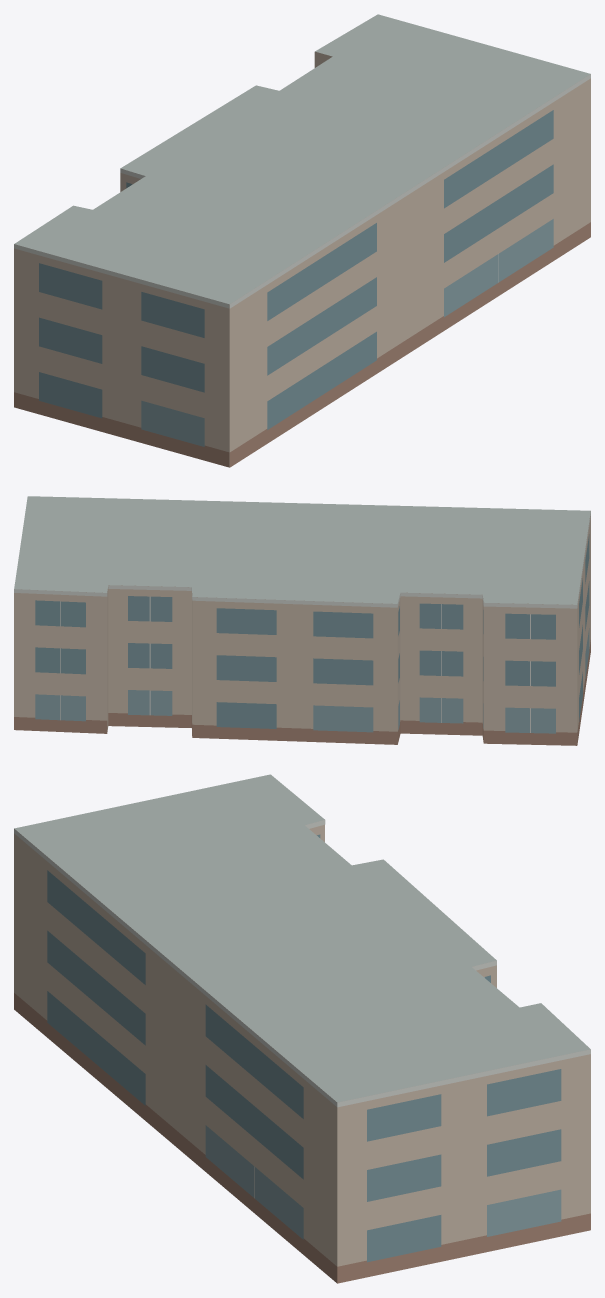
The model's file is survey-upis-32615040.glb.
3 views of the same model, one above another, from view 1: azimuth 30°, elevation 25°; view 2: azimuth 150°, elevation 25°; view 3: azimuth 270°, elevation 25° (orthographic). The views are drawn at different scales.
Visible parts, largest first — view 1: survey-upis-32615040.tmp; view 2: survey-upis-32615040.tmp; view 3: survey-upis-32615040.tmp.
Boxes of the visible parts, bbox=[...] form: survey-upis-32615040.tmp: bbox=[14, 14, 590, 467]; survey-upis-32615040.tmp: bbox=[14, 496, 590, 745]; survey-upis-32615040.tmp: bbox=[14, 774, 590, 1283].
Bounding box in the file's own units: 35.6 × 9.15 × 26.44.
